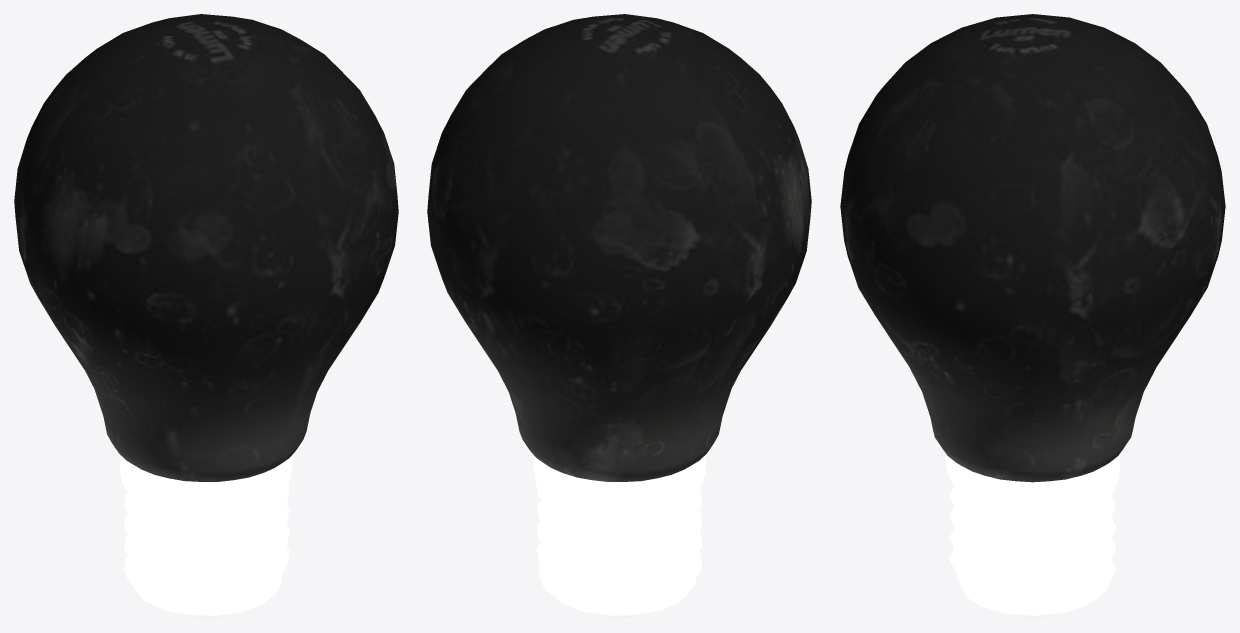
File: lightbulb_01.glb
The picture shows the model from 3 angles, left to right: view 1: azimuth 30°, elevation 25°; view 2: azimuth 150°, elevation 25°; view 3: azimuth 270°, elevation 25°; orthographic projection.
Visible parts, largest first — view 1: lightbulb_01_glass, lightbulb_01_base; view 2: lightbulb_01_glass, lightbulb_01_base; view 3: lightbulb_01_glass, lightbulb_01_base.
Part boxes in pixels (x1,y1,x2,y2): lightbulb_01_glass: (14, 14, 398, 481); lightbulb_01_base: (116, 451, 294, 618); lightbulb_01_glass: (427, 14, 811, 481); lightbulb_01_base: (531, 451, 709, 618); lightbulb_01_glass: (840, 14, 1225, 482); lightbulb_01_base: (945, 453, 1120, 618).
Bounding box in the file's own units: 0.06 × 0.1003 × 0.06.
Materials: 2 (2 with a texture image).
